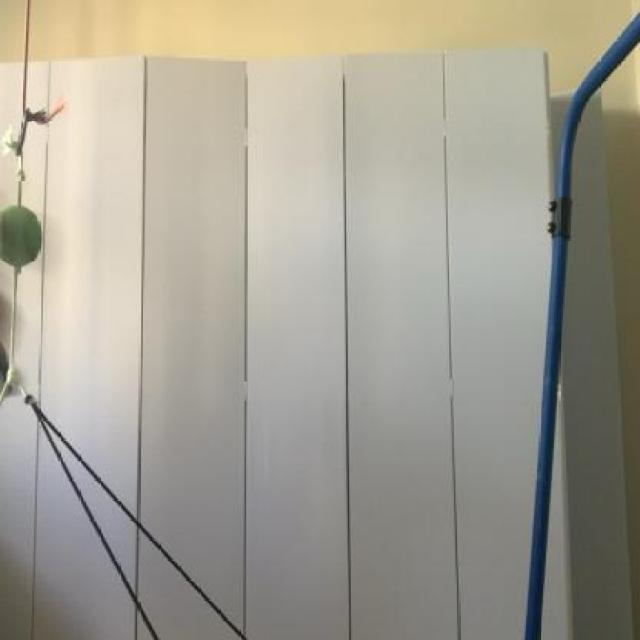baseball: (0, 190, 54, 275)
